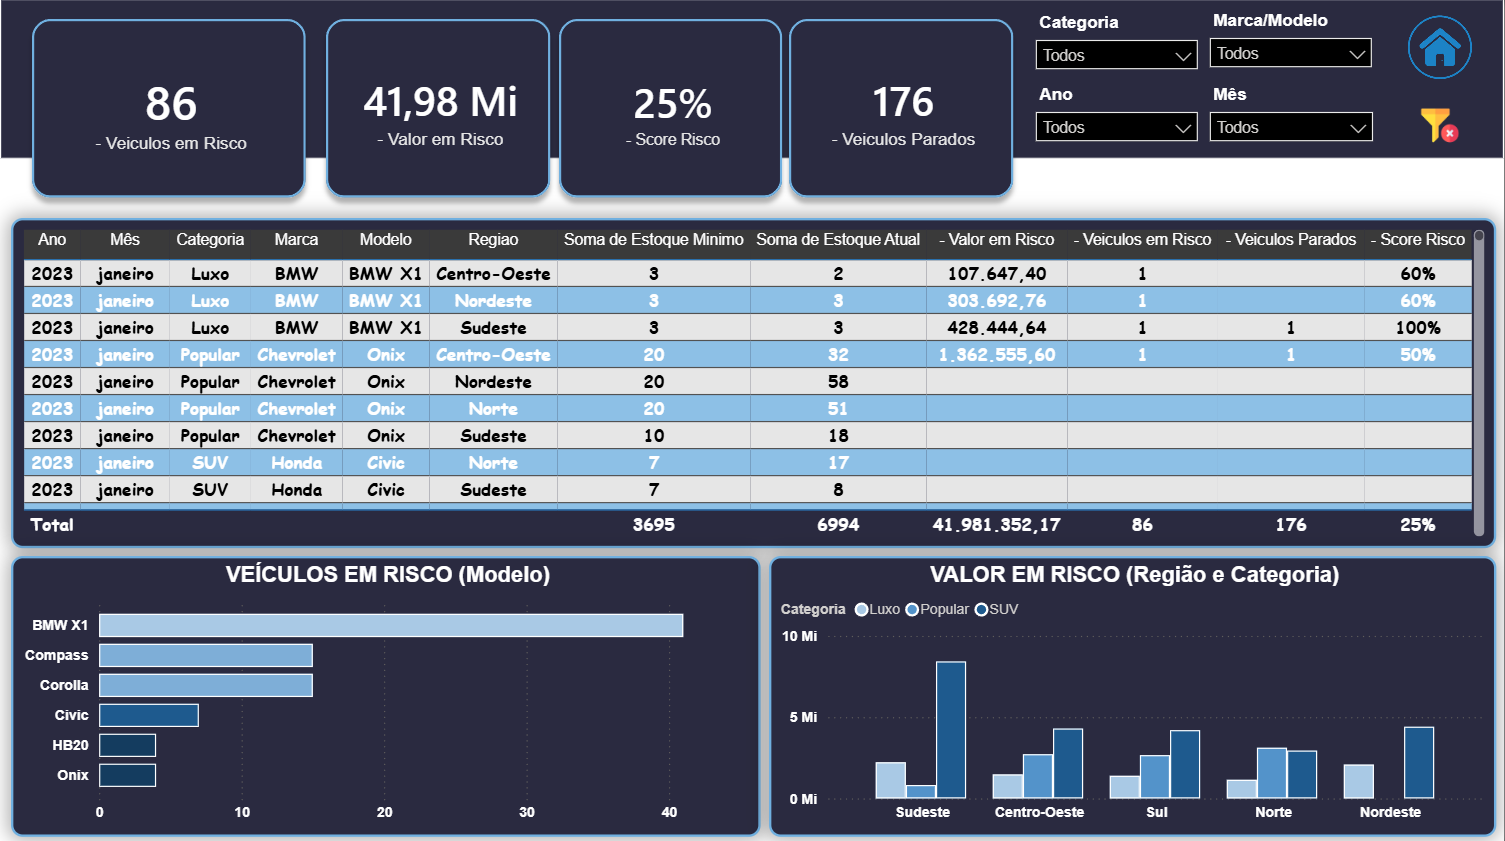

The dashboard page shown, as its layout file describes it:
{"tool":"powerbi","page":{"name":"RELATÓRIO DETALHADO - EM RISCO","canvas":[1280,720],"ordinal":2},"visuals":[{"type":"shape","box":[0,0,1280,136.1],"z":0},{"type":"cardVisual","fields":{"Data":["Base.- Score Risco"]},"box":[458.3,0,224.7,186.2],"z":1000},{"type":"cardVisual","fields":{"Data":["Base.- Valor em Risco"]},"box":[260.6,0,226,186.2],"z":2000},{"type":"cardVisual","title":"RECEITA ","fields":{"Data":["Base.- Veiculos em Risco"]},"box":[10.3,0,267,186.2],"z":3000},{"type":"cardVisual","fields":{"Data":["Base.Imp Veiculos Parados"]},"box":[654.8,0,226,186.2],"z":4000},{"type":"tableEx","title":"VEÍCULOS PARADOS (Marca)","fields":{"Values":["Base.Data.Variation.Hierarquia de datas.Ano","Base.Data.Variation.Hierarquia de datas.Mês","Base.Categoria","Base.Marca","Base.Modelo","Base.Regiao","Sum(Base.Estoque Minimo)","Sum(Base.Estoque Atual)","Base.- Valor em Risco","Base.- Veiculos em Risco","Base.- Veiculos Parados","Base.- Score Risco"]},"box":[9.5,186.4,1263.9,281],"z":5000},{"type":"slicer","fields":{"Values":["Base.Categoria"]},"box":[871.3,6.6,158.2,63.7],"z":12000},{"type":"slicer","fields":{"Values":["Base.Data.Variation.Hierarquia de datas.Ano"]},"box":[871.2,68.4,158.2,63.8],"z":13000},{"type":"image","box":[1188.4,6.5,75.8,68.4],"z":14000},{"type":"slicer","fields":{"Values":["Base.Marca","Base.Modelo"]},"box":[1019.6,5.5,158.2,63.7],"z":15000},{"type":"image","box":[1197.7,82.3,56.4,49.9],"z":16000},{"type":"slicer","fields":{"Values":["Base.Data.Variation.Hierarquia de datas.Mês"]},"box":[1019.8,68.1,158.9,63.4],"z":17000},{"type":"barChart","title":"VEÍCULOS EM RISCO (Modelo)","fields":{"Category":["Base.Modelo"],"Y":["Base.- Veiculos em Risco"]},"box":[9.5,474,637.6,239.3],"z":18000},{"type":"lineClusteredColumnComboChart","title":"VALOR EM RISCO (Região e Categoria)","fields":{"Category":["Base.Regiao"],"Y":["Base.- Valor em Risco"],"Series":["Base.Categoria"]},"box":[654.7,474,618.7,239.3],"z":19000}]}

Visuals, with their boxes in screenshot pixels (x1, y1, x2, y2), scaled from the page's 1280x720 canvas onto the 1505x841 screenshot:
shape: (0,0,1504,159)
cardVisual - Base.- Score Risco: (539,0,803,217)
cardVisual - Base.- Valor em Risco: (306,0,572,217)
"RECEITA " cardVisual: (12,0,326,217)
cardVisual - Base.Imp Veiculos Parados: (770,0,1036,217)
"VEÍCULOS PARADOS (Marca)" tableEx: (11,218,1497,546)
slicer - Base.Categoria: (1024,8,1210,82)
slicer - Base.Data.Variation.Hierarquia de datas.Ano: (1024,80,1210,154)
image: (1397,8,1486,87)
slicer - Base.Marca x Base.Modelo: (1199,6,1385,81)
image: (1408,96,1475,154)
slicer - Base.Data.Variation.Hierarquia de datas.Mês: (1199,80,1386,154)
"VEÍCULOS EM RISCO (Modelo)" barChart: (11,554,761,833)
"VALOR EM RISCO (Região e Categoria)" lineClusteredColumnComboChart: (770,554,1497,833)
